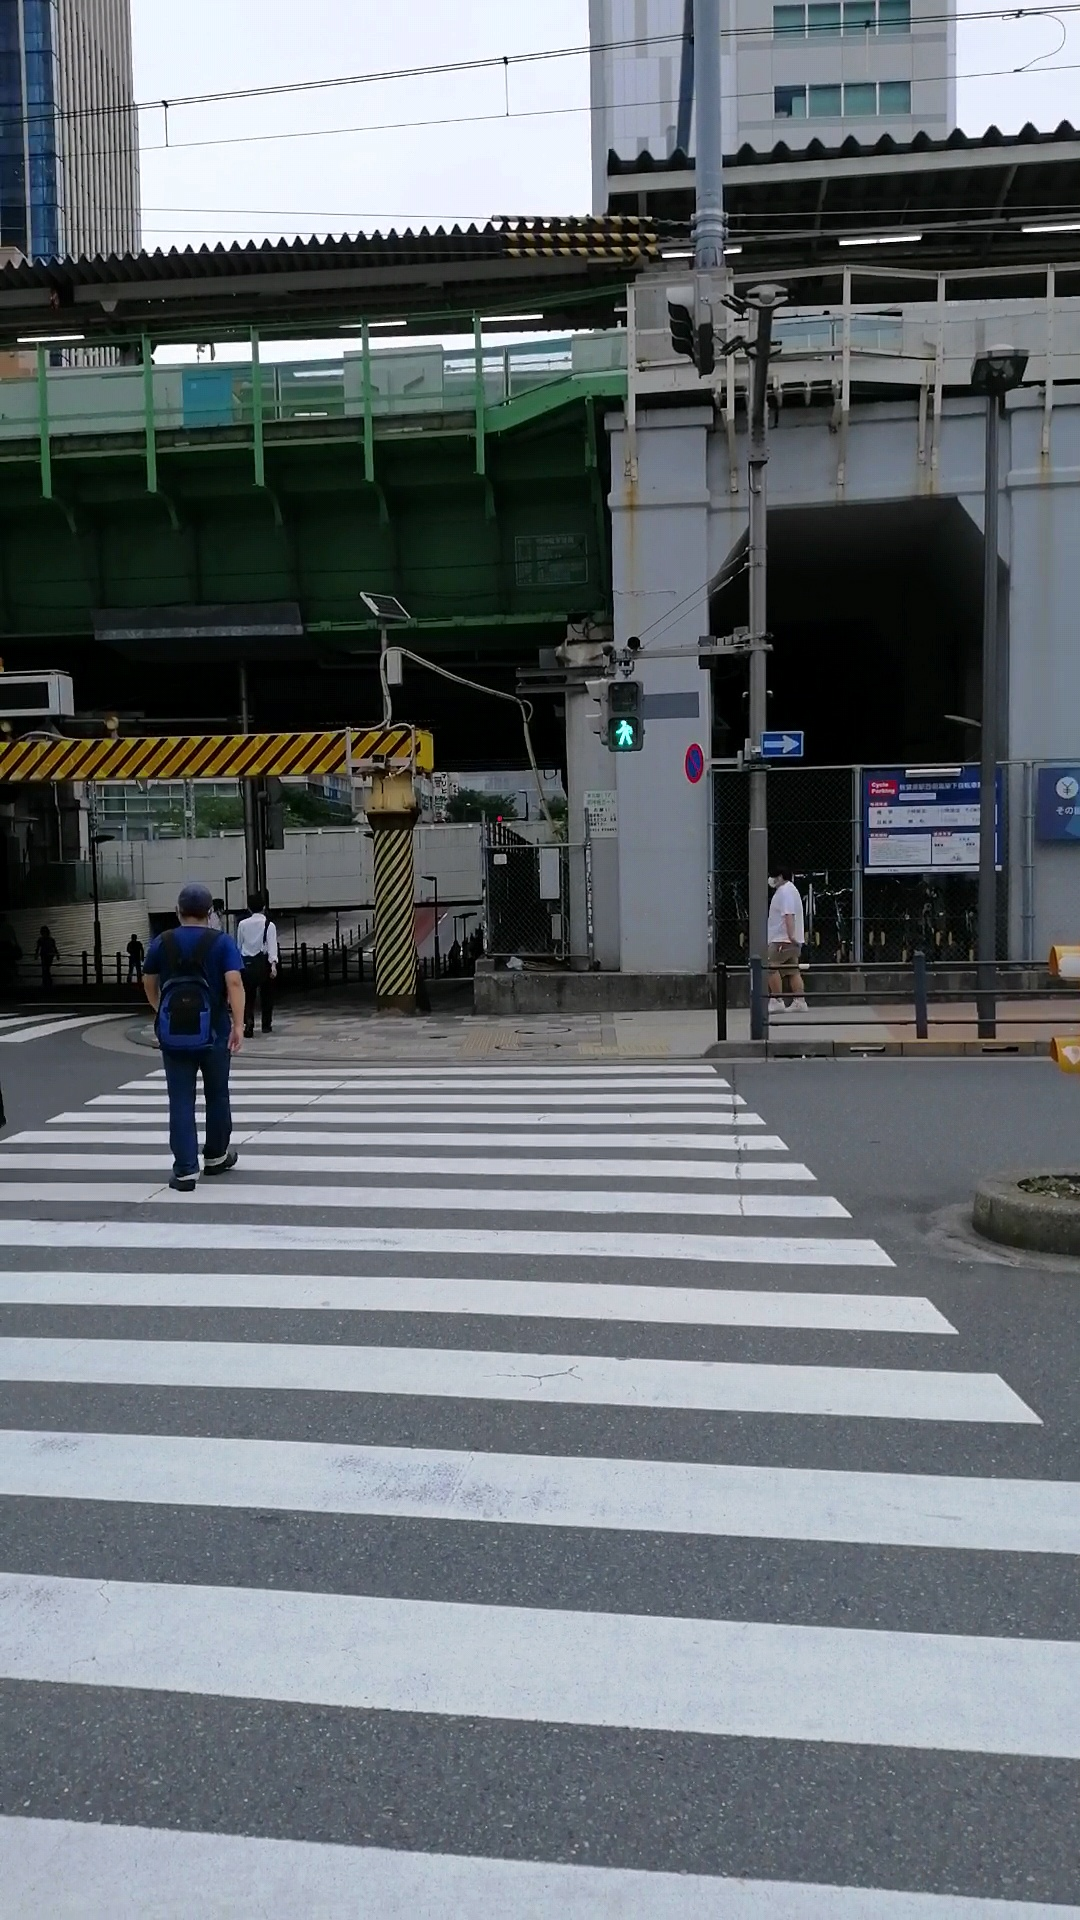green: (604, 679, 645, 753)
